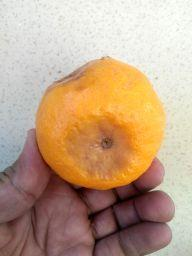Unripe: (34, 57, 167, 186)
